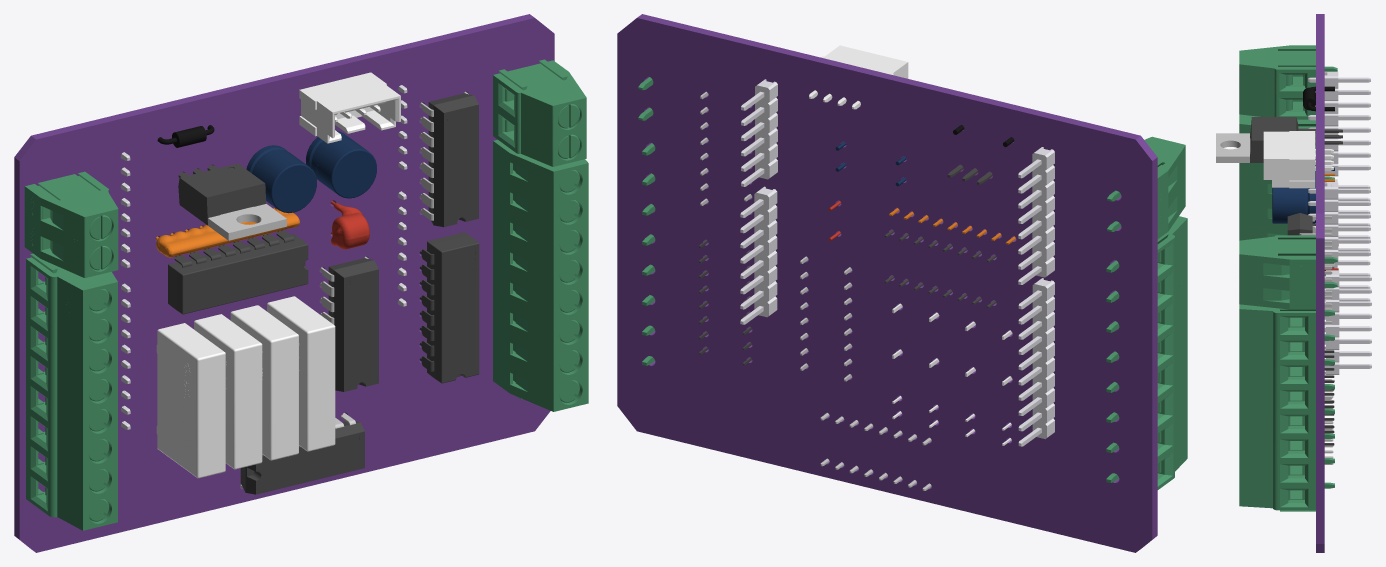
File: 3D_PCB_Uno_Sheild.glb
3 renders of one model, left to right at view 1: azimuth 30°, elevation 25°; view 2: azimuth 150°, elevation 25°; view 3: azimuth 270°, elevation 25°, orthographic. The views are drawn at different scales.
Visible parts, largest first — view 1: Board~SMd4, U1~CONN-TH_8P-P500_DB128V-50-8P~CONN-TH_8P-P500_DB128V-50-8P (×2), H1~CONN-TH_2P-P508_DB128L-508-2P~CONN-TH_2P_L105-W102-P508~S (×4), RN2~DIP-16_L220-W67-P254-LS76-BL~DIP-16_L220-W67-P254-LS76-B (×2), OPT2~PDIP-16_L197-W66-P254-LS76-BL~PDIP-16_L197-W66-H51-P254 (×2), K1~RELAY-TH_7-1461491-6~RELAY-TH_7-1461491-6~SMd4_3, K1~RELAY-TH_7-1461491-6~RELAY-TH_7-1461491-6~SMd4, K1~RELAY-TH_7-1461491-6~RELAY-TH_7-1461491-6~SMd4_1, K1~RELAY-TH_7-1461491-6~RELAY-TH_7-1461491-6~SMd4_2, P3~JST-XH-04P~CONN-TH_4P-P250_HCTL_HC-XHD-4P~SMd4, OPT3~PDIP-16_L197-W66-P254-LS76-BL~PDIP-16_L197-W66-H51-P254, U3~NL1-05-P5~TO-220-3_L100-W45-P254-L~SMd4 (+6 smaller); view 2: Board~SMd4, U1~CONN-TH_8P-P500_DB128V-50-8P~CONN-TH_8P-P500_DB128V-50-8P (×2), H1~CONN-TH_2P-P508_DB128L-508-2P~CONN-TH_2P_L105-W102-P508~S (×2), P3~JST-XH-04P~CONN-TH_4P-P250_HCTL_HC-XHD-4P~SMd4; view 3: U1~CONN-TH_8P-P500_DB128V-50-8P~CONN-TH_8P-P500_DB128V-50-8P (×2), H1~CONN-TH_2P-P508_DB128L-508-2P~CONN-TH_2P_L105-W102-P508~S (×4), Board~SMd4, P3~JST-XH-04P~CONN-TH_4P-P250_HCTL_HC-XHD-4P~SMd4, U3~NL1-05-P5~TO-220-3_L100-W45-P254-L~SMd4, C1~CAP-TH_BD80-P350-D06-FD~CAP-TH_D80-H80-P350~SMd4_1, U3~NL1-05-P5~TO-220-3_L100-W45-P254-L~SMd4_1, OPT2~PDIP-16_L197-W66-P254-LS76-BL~PDIP-16_L197-W66-H51-P254, P2~HDR-TH_6P-P254-V-F~HDR-M-254_1x6~SMd4_5, P1~HDR-TH_8P-P254-V-F-1~HDR-M-254_1x8~SMd4_7, RN2~DIP-16_L220-W67-P254-LS76-BL~DIP-16_L220-W67-P254-LS76-B, P1~HDR-TH_8P-P254-V-F-1~HDR-M-254_1x8~SMd4_2 (+21 smaller).
Part boxes in pixels (box(x1,y1,x2,y2)): Board~SMd4: box(14, 14, 554, 552); U1~CONN-TH_8P-P500_DB128V-50-8P~CONN-TH_8P-P500_DB128V-50-8P (×2): box(26, 139, 588, 530); H1~CONN-TH_2P-P508_DB128L-508-2P~CONN-TH_2P_L105-W102-P508~S (×4): box(24, 59, 586, 277); RN2~DIP-16_L220-W67-P254-LS76-BL~DIP-16_L220-W67-P254-LS76-B (×2): box(168, 231, 479, 383); OPT2~PDIP-16_L197-W66-P254-LS76-BL~PDIP-16_L197-W66-H51-P254 (×2): box(328, 93, 478, 391); K1~RELAY-TH_7-1461491-6~RELAY-TH_7-1461491-6~SMd4_3: box(156, 323, 225, 478); K1~RELAY-TH_7-1461491-6~RELAY-TH_7-1461491-6~SMd4: box(194, 314, 262, 469); K1~RELAY-TH_7-1461491-6~RELAY-TH_7-1461491-6~SMd4_1: box(230, 305, 298, 460); K1~RELAY-TH_7-1461491-6~RELAY-TH_7-1461491-6~SMd4_2: box(267, 296, 335, 451); P3~JST-XH-04P~CONN-TH_4P-P250_HCTL_HC-XHD-4P~SMd4: box(299, 72, 400, 143); OPT3~PDIP-16_L197-W66-P254-LS76-BL~PDIP-16_L197-W66-H51-P254: box(240, 421, 364, 494); U3~NL1-05-P5~TO-220-3_L100-W45-P254-L~SMd4: box(178, 163, 266, 225); Board~SMd4: box(617, 14, 1157, 552); U1~CONN-TH_8P-P500_DB128V-50-8P~CONN-TH_8P-P500_DB128V-50-8P (×2): box(642, 143, 1187, 489); H1~CONN-TH_2P-P508_DB128L-508-2P~CONN-TH_2P_L105-W102-P508~S (×2): box(1107, 136, 1185, 238); P3~JST-XH-04P~CONN-TH_4P-P250_HCTL_HC-XHD-4P~SMd4: box(809, 45, 908, 109); U1~CONN-TH_8P-P500_DB128V-50-8P~CONN-TH_8P-P500_DB128V-50-8P (×2): box(1239, 114, 1334, 511); H1~CONN-TH_2P-P508_DB128L-508-2P~CONN-TH_2P_L105-W102-P508~S (×4): box(1239, 45, 1337, 309); Board~SMd4: box(1316, 14, 1324, 552); P3~JST-XH-04P~CONN-TH_4P-P250_HCTL_HC-XHD-4P~SMd4: box(1263, 131, 1333, 188); U3~NL1-05-P5~TO-220-3_L100-W45-P254-L~SMd4: box(1250, 117, 1342, 162); C1~CAP-TH_BD80-P350-D06-FD~CAP-TH_D80-H80-P350~SMd4_1: box(1272, 180, 1315, 223); U3~NL1-05-P5~TO-220-3_L100-W45-P254-L~SMd4_1: box(1216, 133, 1250, 162); OPT2~PDIP-16_L197-W66-P254-LS76-BL~PDIP-16_L197-W66-H51-P254: box(1287, 213, 1312, 235); P2~HDR-TH_6P-P254-V-F~HDR-M-254_1x6~SMd4_5: box(1308, 182, 1370, 199); P1~HDR-TH_8P-P254-V-F-1~HDR-M-254_1x8~SMd4_7: box(1308, 71, 1370, 88); RN2~DIP-16_L220-W67-P254-LS76-BL~DIP-16_L220-W67-P254-LS76-B: box(1324, 340, 1334, 445); P1~HDR-TH_8P-P254-V-F-1~HDR-M-254_1x8~SMd4_2: box(1308, 113, 1370, 126).
Bounding box in the file's own units: 93.19 × 68.81 × 28.66.
